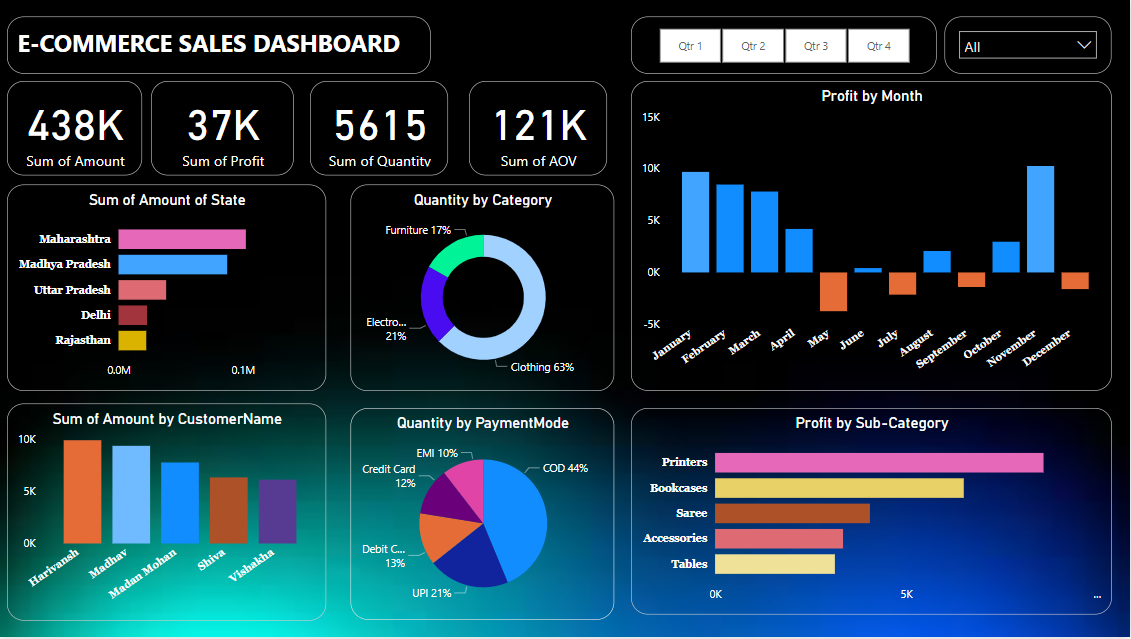

Layout of this report page (visuals, bound fields, positions):
{"tool":"powerbi","page":{"name":"Page 1","canvas":[1280,720],"ordinal":0},"visuals":[{"type":"textbox","box":[9.6,18.3,478.8,64.4],"z":0},{"type":"lineStackedColumnComboChart","title":"Profit by Month","fields":{"Category":["Orders.Order Date.Variation.Date Hierarchy.Month"],"Y":["Details.Profit"]},"box":[715.4,91.3,543.3,350],"z":1000},{"type":"barChart","title":" Profit by Sub-Category","fields":{"Category":["Details.Sub-Category"],"Y":["Details.Profit"]},"box":[715.4,461.5,543.3,233.7],"z":2000},{"type":"donutChart","title":" Quantity by Category","fields":{"Category":["Details.Category"],"Y":["Details.Quantity"]},"box":[398.1,207.7,298.1,233.7],"z":3000},{"type":"pieChart","title":"Quantity by PaymentMode","fields":{"Category":["Details.PaymentMode"],"Y":["Details.Quantity"]},"box":[398.1,461.5,298.1,239.4],"z":4000},{"type":"card","fields":{"Values":["Details.Amount"]},"box":[9.6,91.3,152.9,106.7],"z":5000},{"type":"card","fields":{"Values":["Details.Quantity"]},"box":[351.9,91.3,155.8,106.7],"z":6000},{"type":"card","fields":{"Values":["Details.Profit"]},"box":[172.1,91.3,161.5,106.7],"z":7000},{"type":"card","fields":{"Values":["Details.AVG ORDER VALUE"]},"box":[531.7,91.3,155.8,106.7],"z":8000},{"type":"barChart","title":"Sum of Amount of State","fields":{"Category":["Orders.State"],"Y":["Details.Amount"]},"box":[9.6,207.7,360.6,233.7],"z":9000},{"type":"columnChart","fields":{"Category":["Orders.CustomerName"],"Y":["Details.Amount"]},"box":[9.6,455.8,360.6,245.2],"z":10000},{"type":"slicer","fields":{"Values":["Orders.Order Date.Variation.Date Hierarchy.Quarter"]},"box":[715.4,18.3,345.2,64.4],"z":11000},{"type":"slicer","fields":{"Values":["Orders.State"]},"box":[1070.2,18.3,188.5,64.4],"z":11001}]}

Visuals, with their boxes in screenshot pixels (x1, y1, x2, y2), scaled from the page's 1280x720 canvas onto the 1131x639 screenshot:
textbox: <region>8, 16, 432, 73</region>
"Profit by Month" lineStackedColumnComboChart: <region>632, 81, 1112, 392</region>
" Profit by Sub-Category" barChart: <region>632, 410, 1112, 617</region>
" Quantity by Category" donutChart: <region>352, 184, 615, 392</region>
"Quantity by PaymentMode" pieChart: <region>352, 410, 615, 622</region>
card - Details.Amount: <region>8, 81, 144, 176</region>
card - Details.Quantity: <region>311, 81, 449, 176</region>
card - Details.Profit: <region>152, 81, 295, 176</region>
card - Details.AVG ORDER VALUE: <region>470, 81, 607, 176</region>
"Sum of Amount of State" barChart: <region>8, 184, 327, 392</region>
columnChart - Orders.CustomerName x Details.Amount: <region>8, 405, 327, 622</region>
slicer - Orders.Order Date.Variation.Date Hierarchy.Quarter: <region>632, 16, 937, 73</region>
slicer - Orders.State: <region>946, 16, 1112, 73</region>
